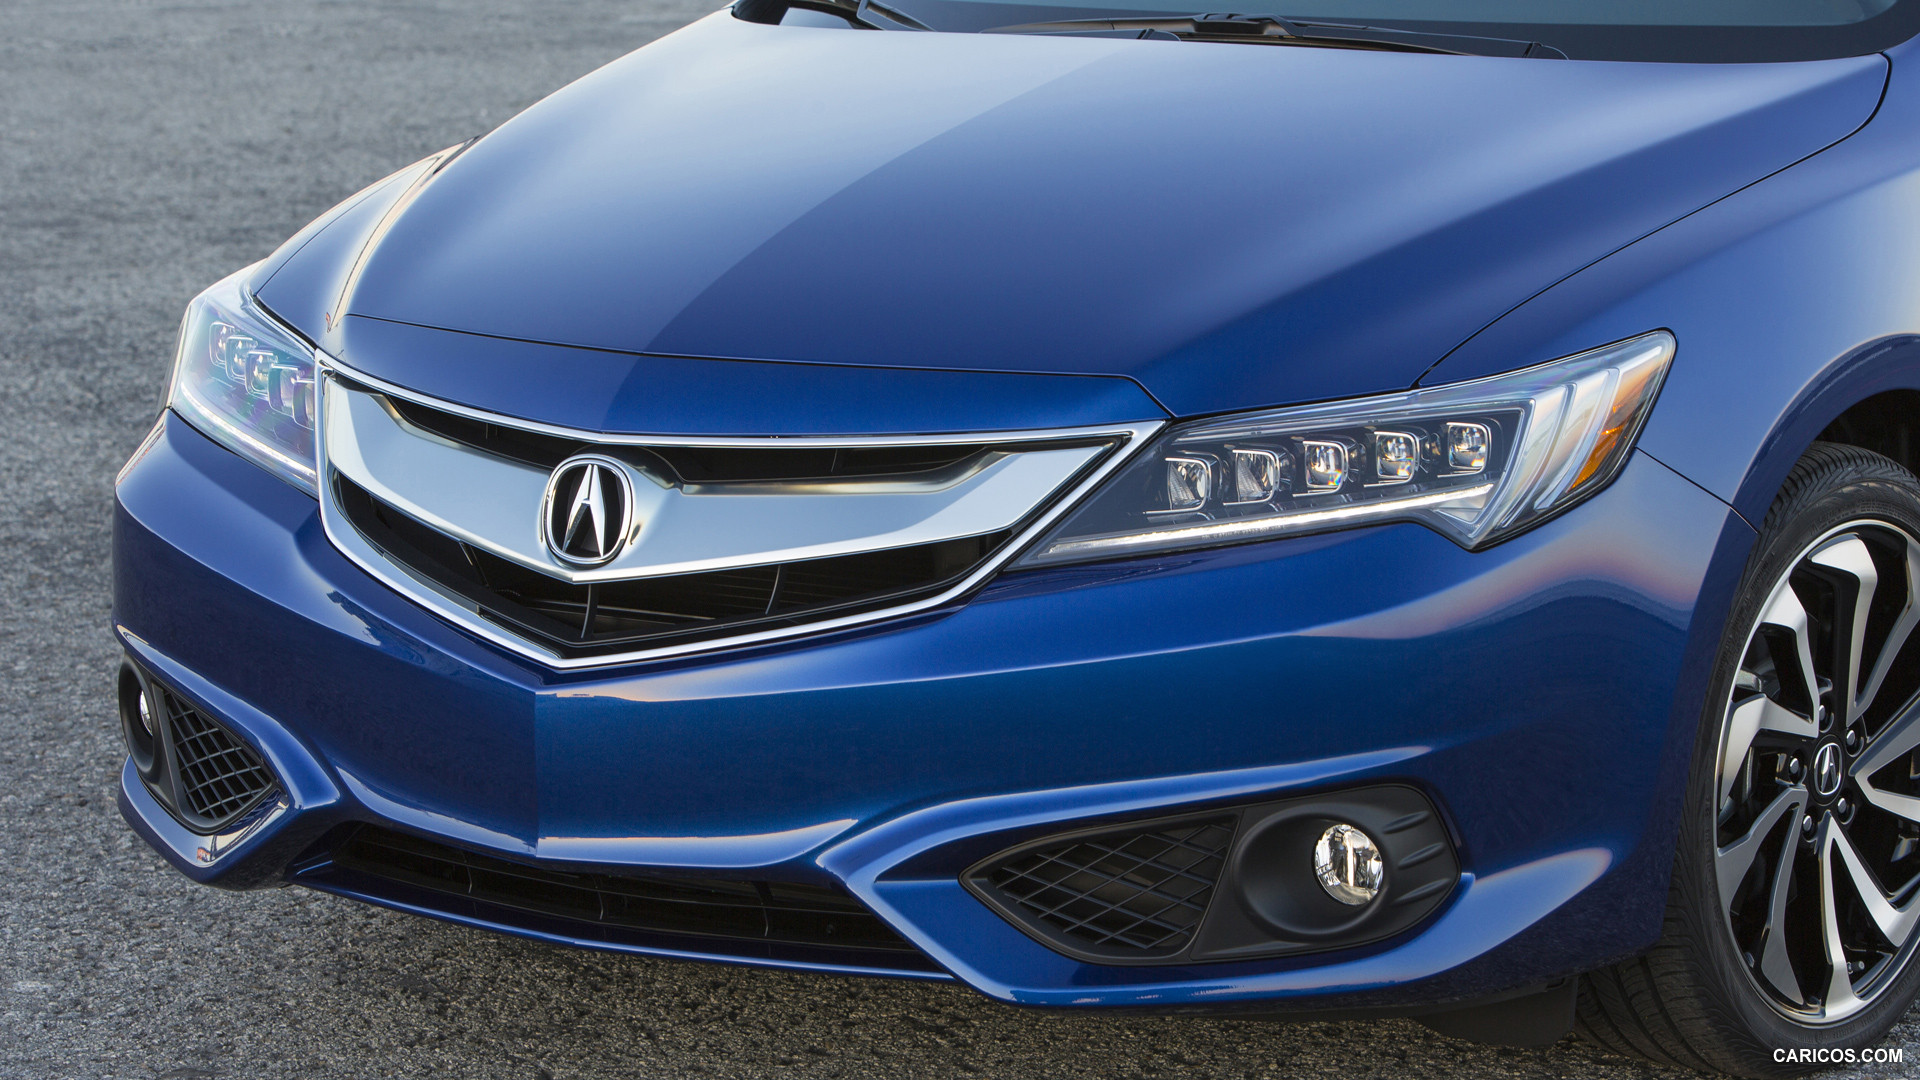Fog Lamp & Scope: (971, 789, 1470, 968)
Front: (113, 69, 1847, 1002)
Front Bumper: (116, 645, 1662, 998)
Grill: (305, 429, 1110, 662)
Headlight: (1013, 327, 1687, 579)
